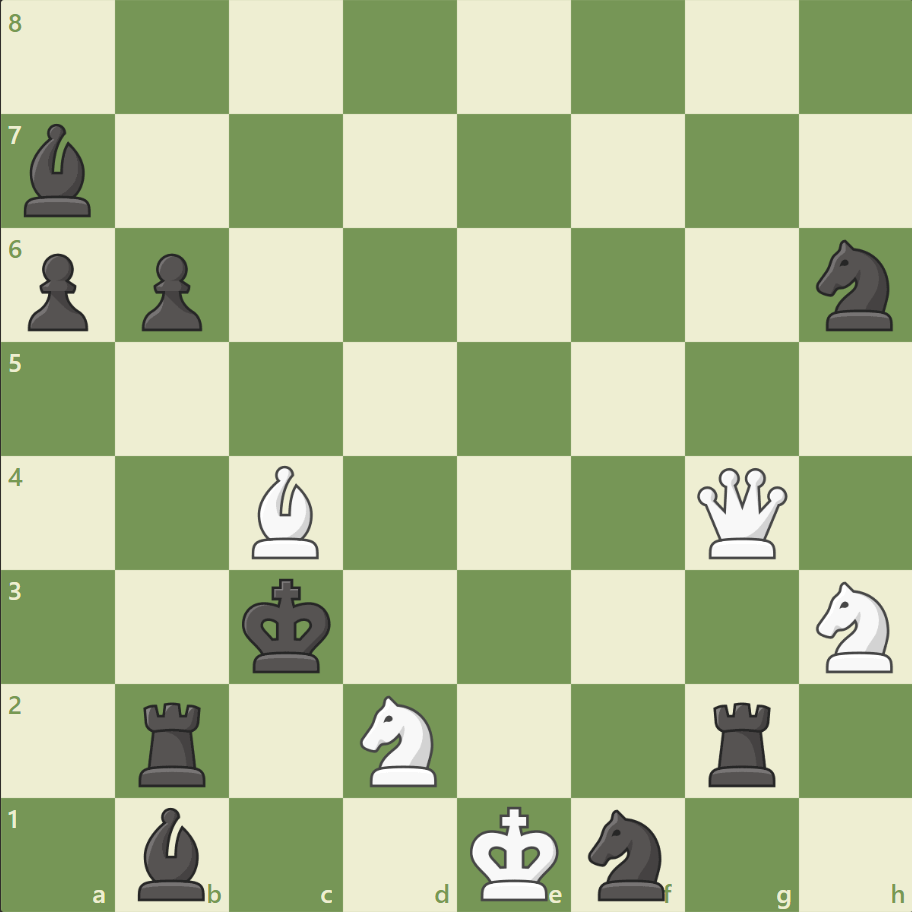B: (244, 460, 328, 563)
K: (465, 798, 565, 906)
N: (351, 688, 449, 791), (806, 575, 903, 677)
Q: (691, 463, 790, 562)
b: (131, 801, 215, 904), (17, 120, 101, 222)
k: (238, 571, 338, 679)
n: (806, 234, 903, 337), (579, 802, 676, 904)
p: (20, 246, 95, 337), (133, 246, 208, 337)
r: (700, 693, 783, 790), (133, 693, 215, 790)
